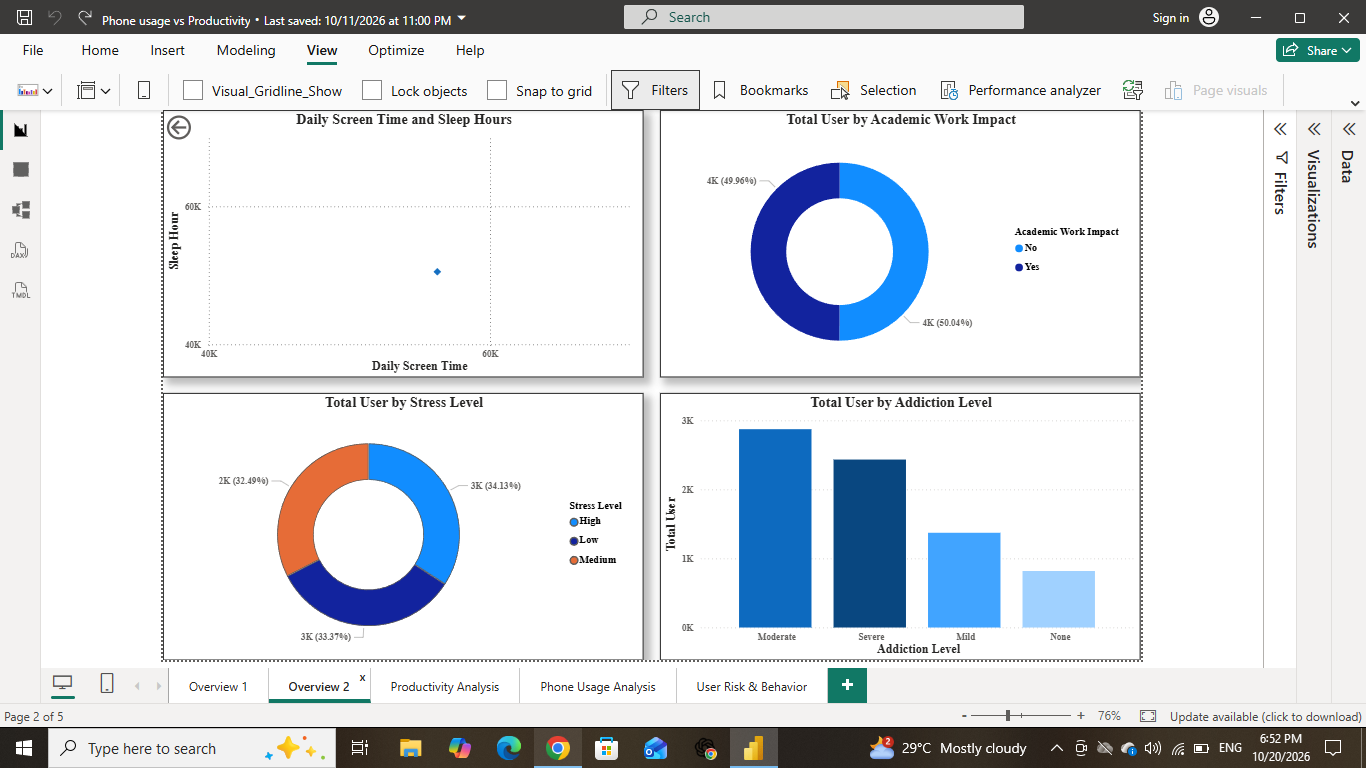

This screenshot's page, from the dashboard's own definition file:
{"tool":"powerbi","page":{"name":"Overview 2","canvas":[1280,720],"ordinal":1},"visuals":[{"type":"scatterChart","title":"Daily Screen Time and Sleep Hours","fields":{"X":["Sum(Smartphone_Usage_And_Addiction_Analysis.Daily Screen Time)"],"Y":["Sum(Smartphone_Usage_And_Addiction_Analysis.Sleep Hours)"]},"box":[0,0,629.3,349.9],"z":0},{"type":"donutChart","title":"Total User by Stress Level","fields":{"Category":["Smartphone_Usage_And_Addiction_Analysis.Stress Level"],"Y":["Smartphone_Usage_And_Addiction_Analysis.Total_User"]},"box":[0,370,629,350],"z":1000},{"type":"donutChart","title":"Total User by Academic Work Impact","fields":{"Category":["Smartphone_Usage_And_Addiction_Analysis.Academic Work Impact"],"Y":["Smartphone_Usage_And_Addiction_Analysis.Total_User"]},"box":[650.9,0,629.3,349.9],"z":2000},{"type":"clusteredColumnChart","title":"Total User by Addiction Level","fields":{"Category":["Smartphone_Usage_And_Addiction_Analysis.Addiction Level"],"Y":["Smartphone_Usage_And_Addiction_Analysis.Total_User"]},"box":[651,370,629,350],"z":3000},{"type":"actionButton","box":[0,0,41.8,46.1],"z":4000}]}

Visuals, with their boxes on the page's 1280x720 design canvas (x1, y1, x2, y2). These are canvas units, not pixel positions in the 1366x768 screenshot, which may show the page scaled, cropped or inside an application window:
"Daily Screen Time and Sleep Hours" scatterChart: box(0, 0, 629, 350)
"Total User by Stress Level" donutChart: box(0, 370, 629, 720)
"Total User by Academic Work Impact" donutChart: box(651, 0, 1280, 350)
"Total User by Addiction Level" clusteredColumnChart: box(651, 370, 1280, 720)
actionButton: box(0, 0, 42, 46)
